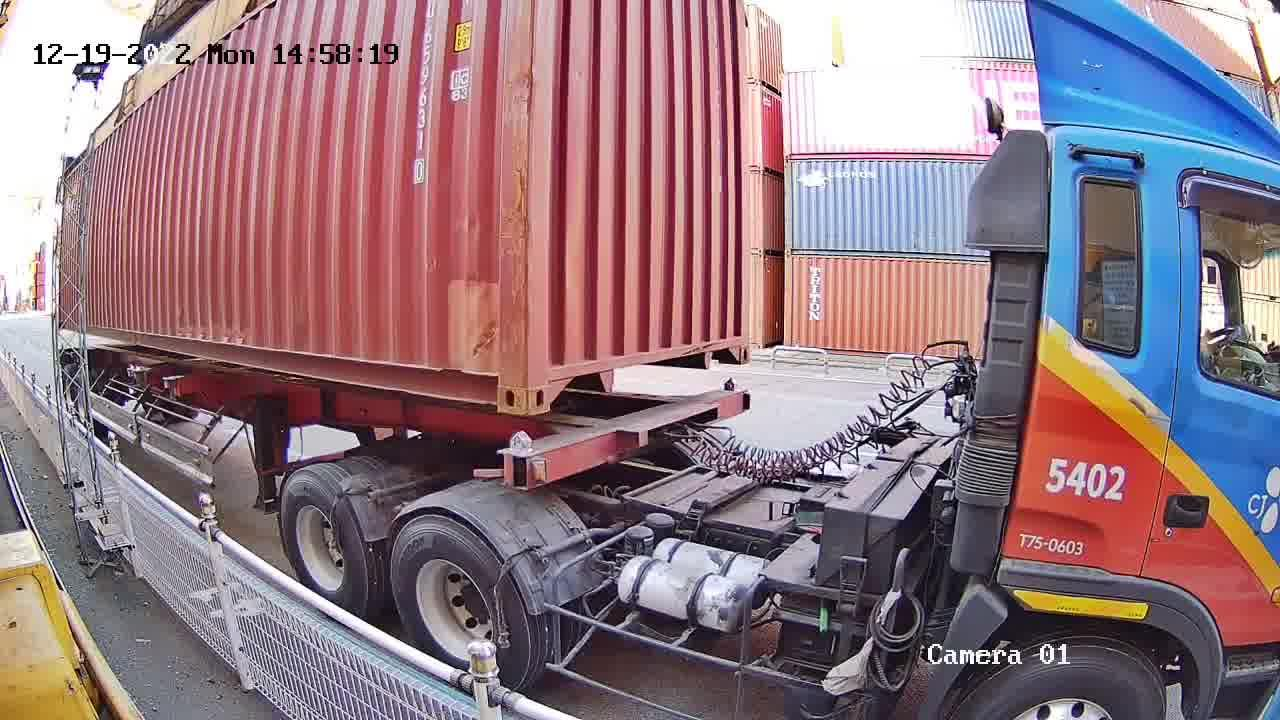Chassis: (501, 388, 749, 488)
Cone: (493, 431, 532, 490), (719, 378, 739, 394)
Hole_L: (528, 349, 575, 414)
Hole_R: (468, 345, 527, 414), (714, 323, 752, 367)
Tire: (389, 518, 527, 687), (280, 470, 370, 612)
